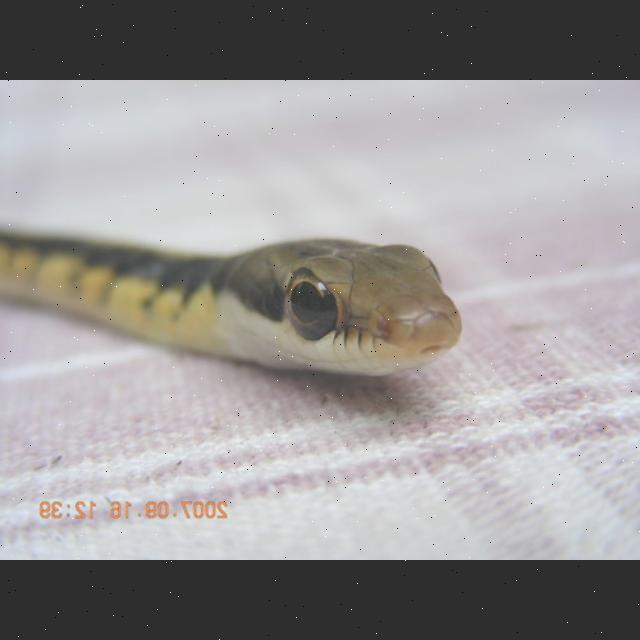snake: (0, 219, 468, 395)
